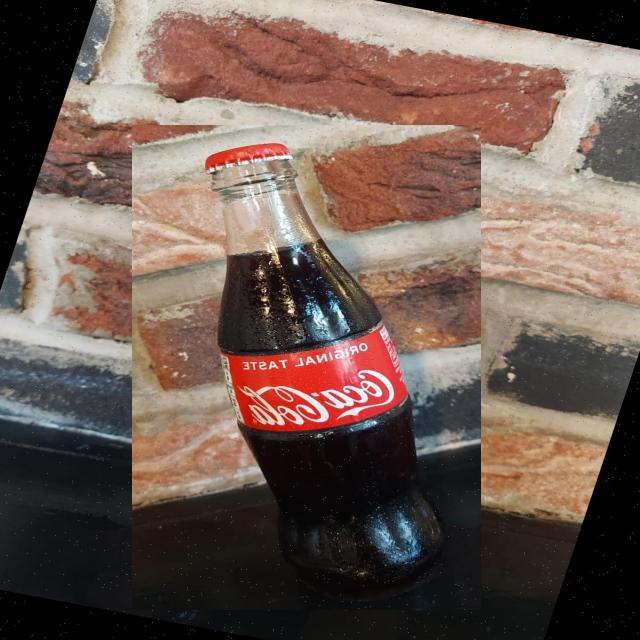coca-cola: (132, 125, 481, 610)
